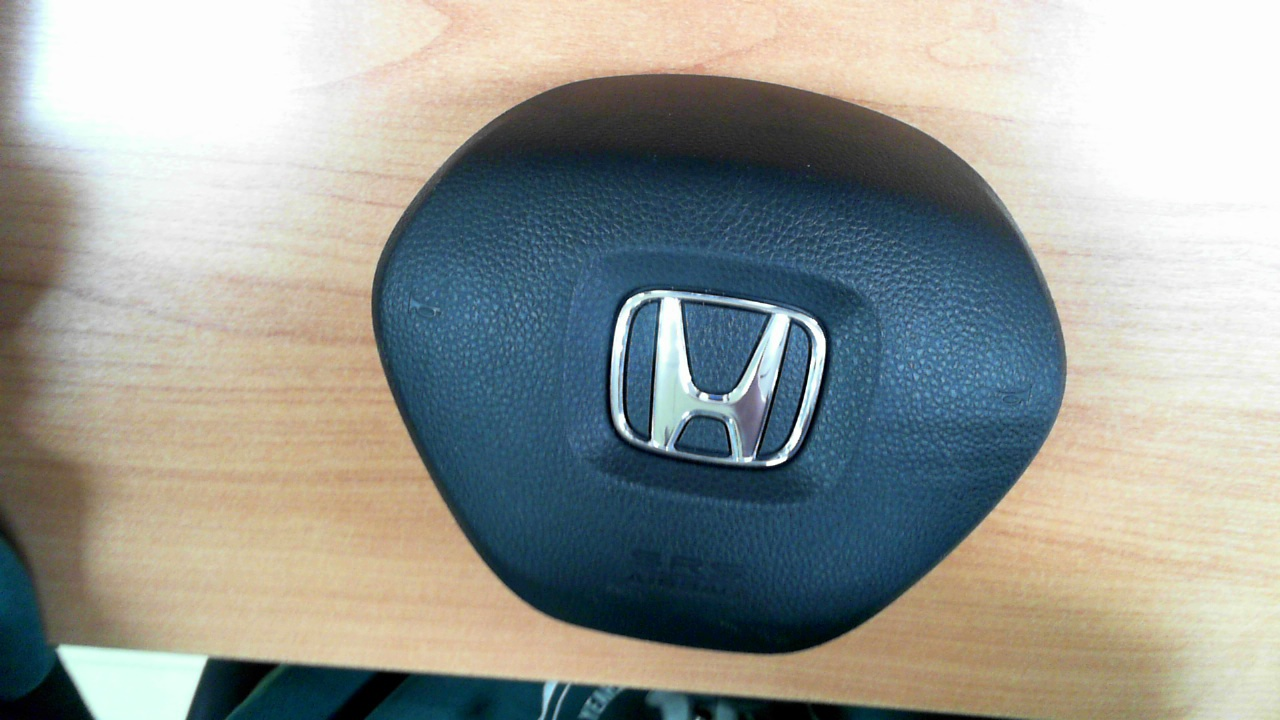Airbag: (371, 71, 1068, 656)
Honda: (609, 289, 827, 467)
